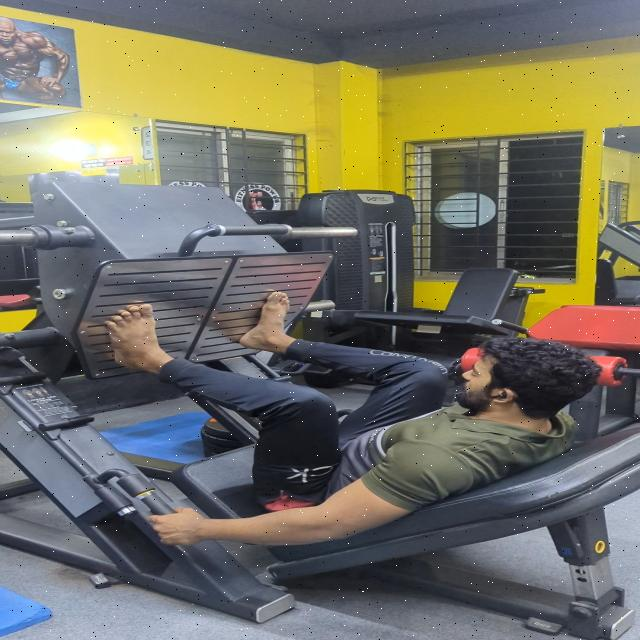Normal_LegPress: (23, 161, 640, 640)
